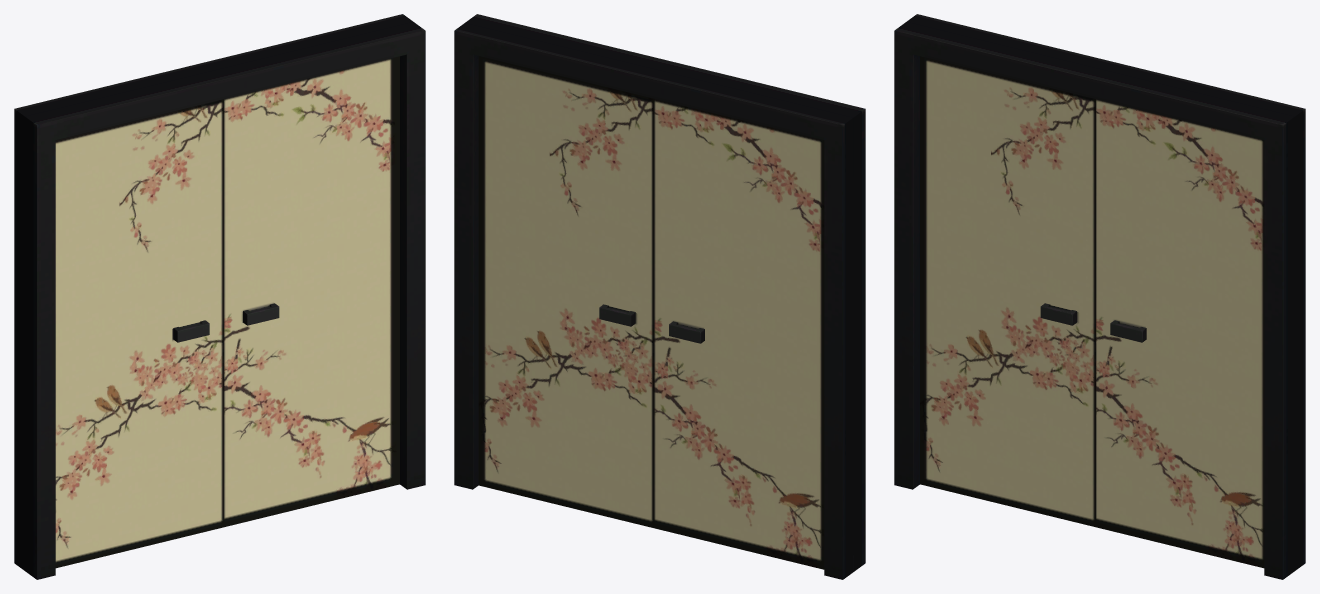
File: Door1.d.fbx
3 views of the same model, side by side, from view 1: azimuth 30°, elevation 25°; view 2: azimuth 150°, elevation 25°; view 3: azimuth 330°, elevation 25° (orthographic).
Visible parts, largest first — view 1: Group 0; view 2: Group 0; view 3: Group 0.
Part boxes in pixels (left/top/right/bottom): Group 0: left=14, top=14, right=425, bottom=579; Group 0: left=454, top=14, right=865, bottom=579; Group 0: left=894, top=14, right=1305, bottom=579.
Bounding box in the file's own units: 200 × 224 × 20.31.
3 materials, 3 textured.
